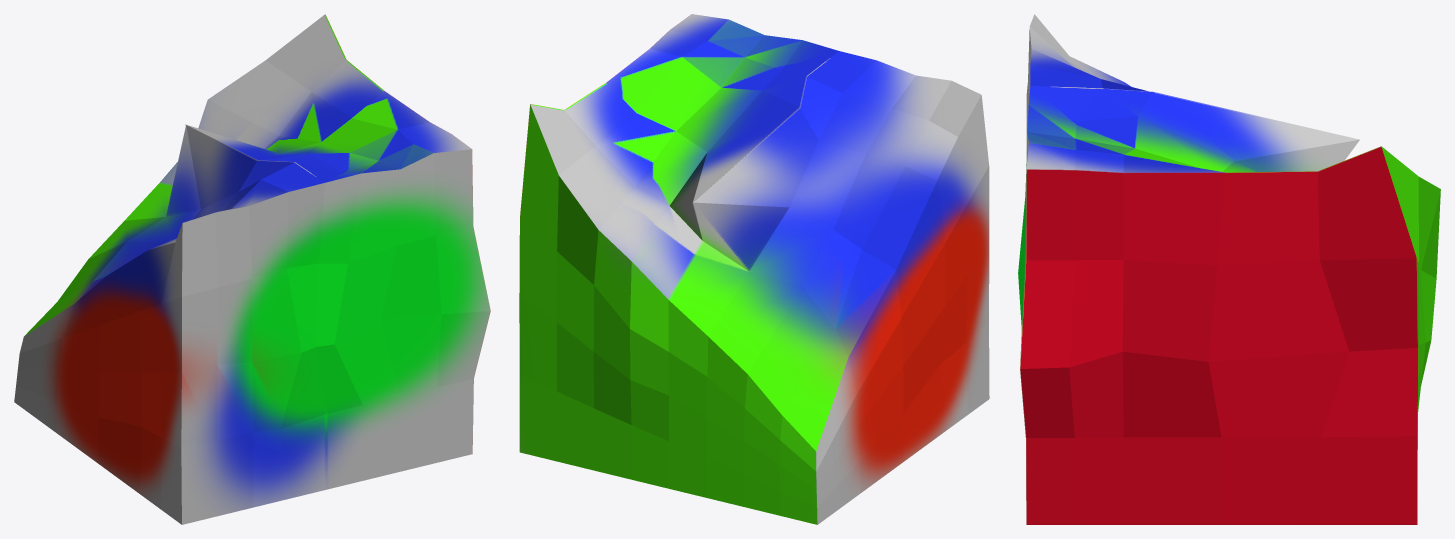
File: cubito.glb
The picture shows the model from 3 angles, left to right: view 1: azimuth 30°, elevation 25°; view 2: azimuth 150°, elevation 25°; view 3: azimuth 270°, elevation 25°; orthographic projection. The views are drawn at different scales.
Visible parts, largest first — view 1: Cube; view 2: Cube; view 3: Cube.
Boxes of the visible parts, <box> form: Cube: <box>14,14,490,524</box>; Cube: <box>519,14,989,524</box>; Cube: <box>1018,14,1440,524</box>.
Size of the model in its own units: 2.11 by 2.15 by 2.16.
Materials: 1 (1 with a texture image).
